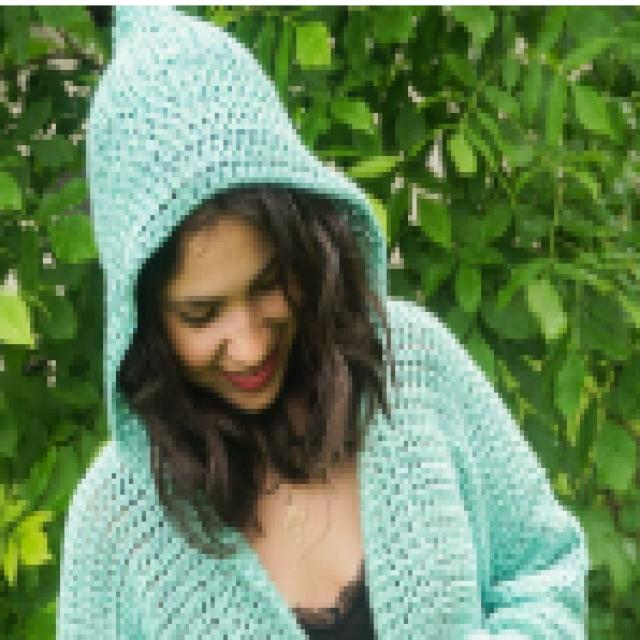4_capucha: (87, 2, 390, 436)
